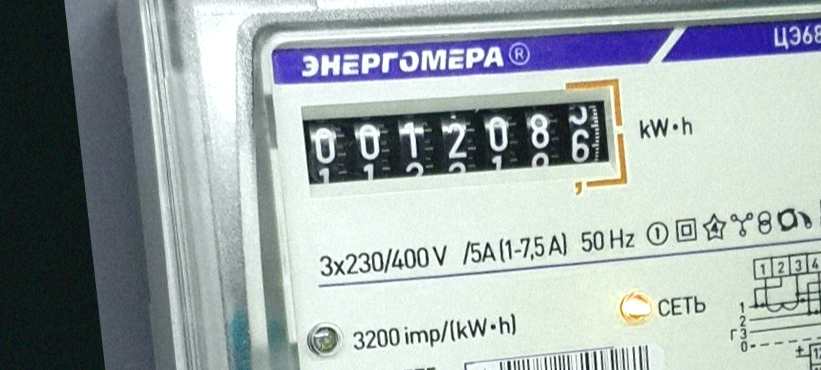0: (353, 117, 386, 162), (310, 120, 339, 165), (484, 111, 512, 153)
1: (398, 116, 425, 159)
2: (442, 118, 471, 159)
6: (565, 124, 593, 163)
8: (526, 108, 553, 150)
screen: (290, 56, 642, 231)
